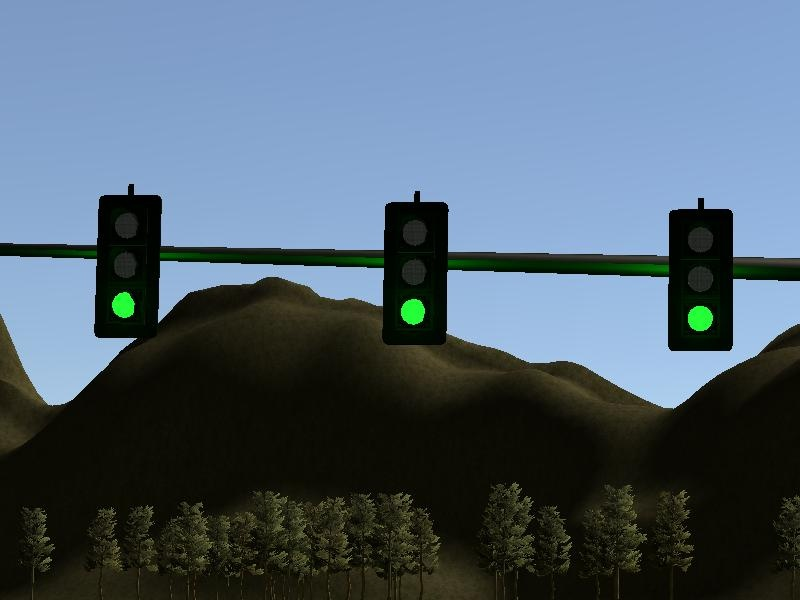Green: (383, 202, 450, 348), (95, 193, 160, 342), (668, 208, 732, 351)
